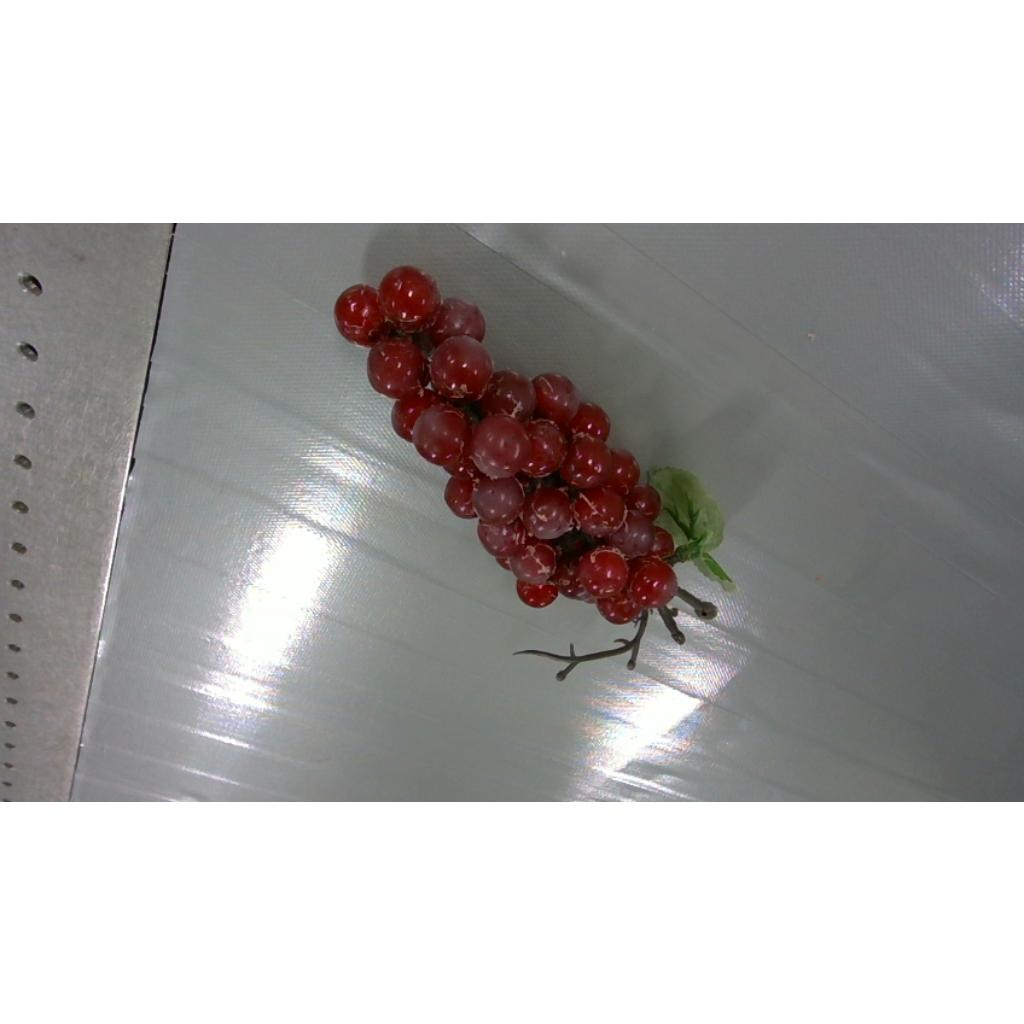grape: (334, 264, 732, 679)
